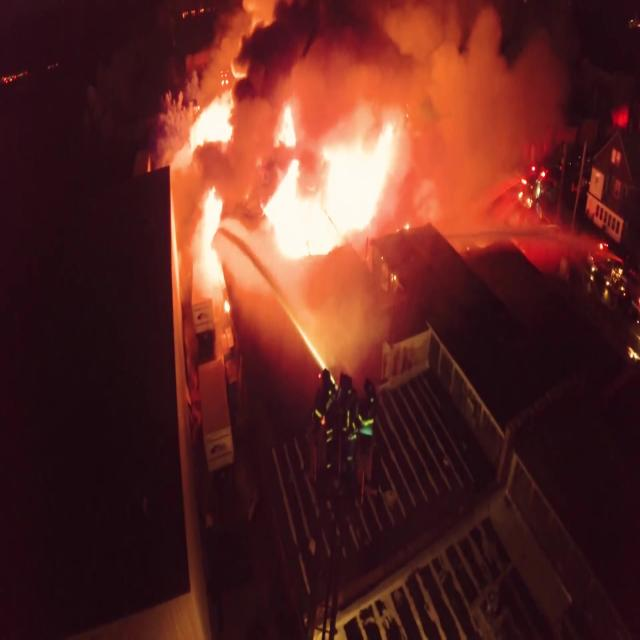Fire: (269, 133, 385, 247), (190, 186, 232, 290), (190, 96, 242, 148)
Smoke: (244, 0, 494, 108), (398, 15, 522, 224)
